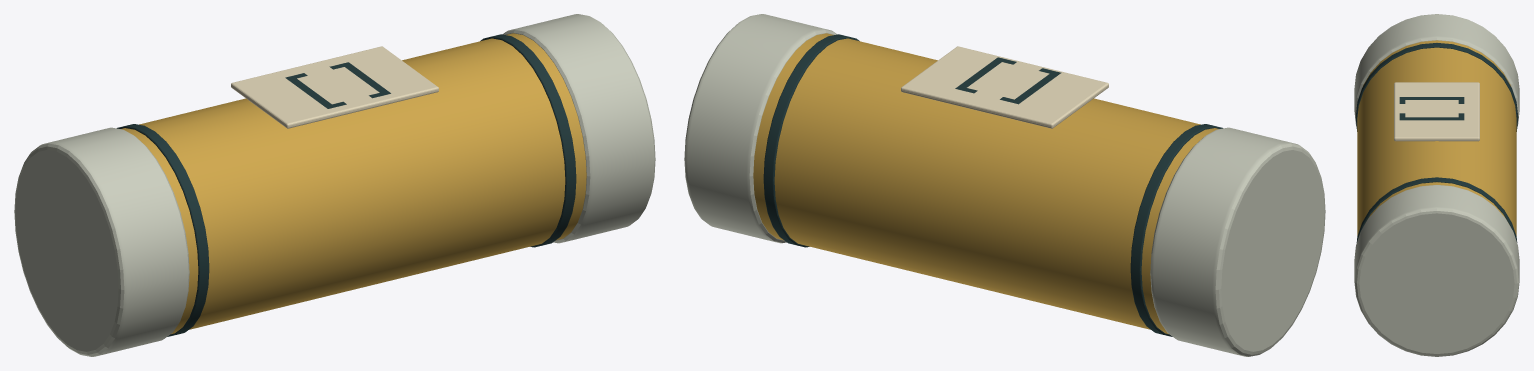
File: fuse_yellow.glb
3 renders of one model, left to right at view 1: azimuth 30°, elevation 25°; view 2: azimuth 150°, elevation 25°; view 3: azimuth 270°, elevation 25°, orthographic. The views are drawn at different scales.
Parts seen in each view (by area): view 1: fuse_yellow; view 2: fuse_yellow; view 3: fuse_yellow.
Part boxes in pixels (x1,y1,x2,y2): fuse_yellow: (14,14,655,356); fuse_yellow: (684,14,1325,356); fuse_yellow: (1354,14,1519,356).
Bounding box in the file's own units: 0.06 × 0.0216 × 0.0213.
